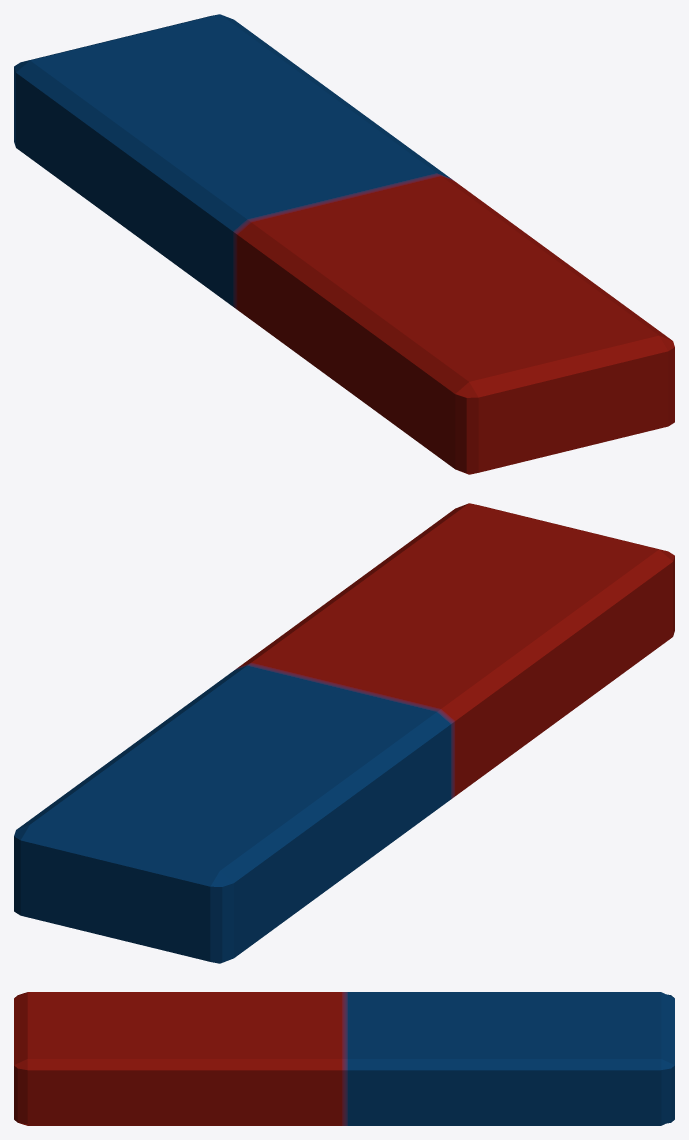
The model's file is Magnetic.fbx.
3 views of the same model, one above another, from view 1: azimuth 30°, elevation 25°; view 2: azimuth 150°, elevation 25°; view 3: azimuth 270°, elevation 25° (orthographic). The views are drawn at different scales.
Visible parts, largest first — view 1: magnetic; view 2: magnetic; view 3: magnetic.
Part boxes in pixels (left/top/right/bottom): magnetic: left=14, top=14, right=674, bottom=474; magnetic: left=14, top=503, right=674, bottom=963; magnetic: left=14, top=992, right=674, bottom=1125.
Size of the model in its own units: 0.3792 by 0.1545 by 1.38.
